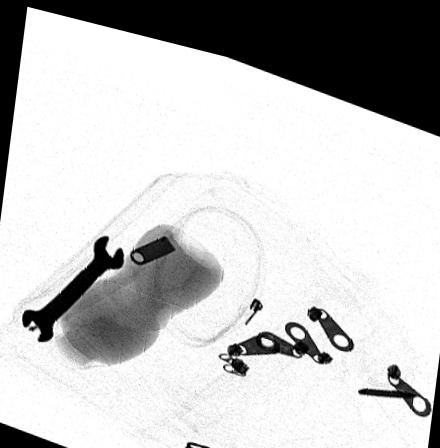Wrench: (22, 228, 123, 341)
